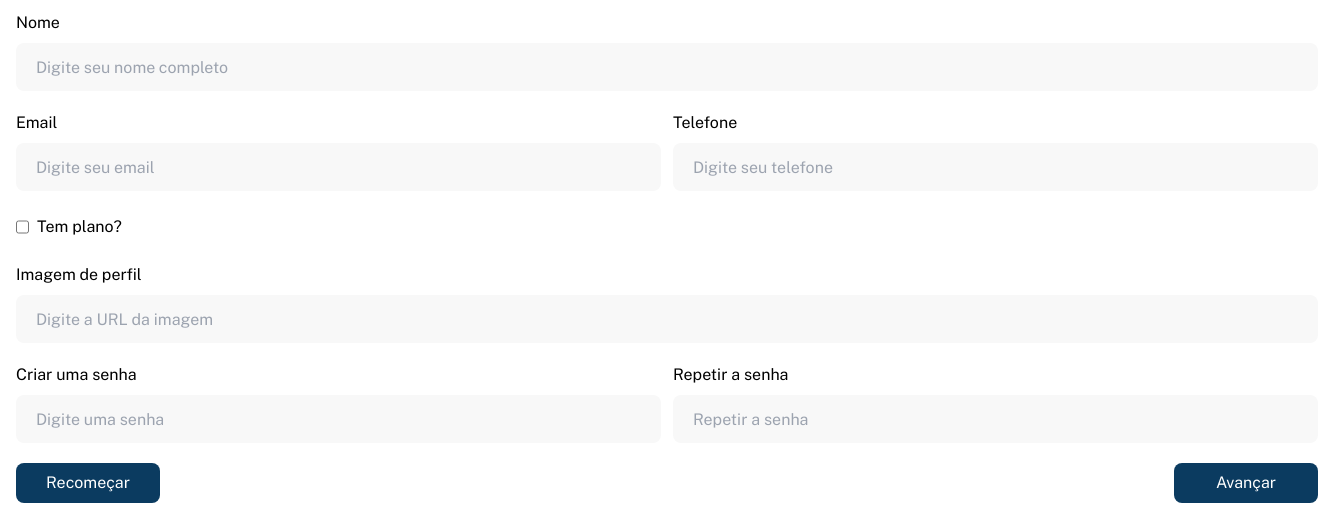
Scenario: PersonalForm Component › renders plan selection dropdown when "Tem plano?" is checked
Click the checkbox labelled "Tem plano?".
click(22, 227)  # box x1=16 y1=203 x2=29 y2=251
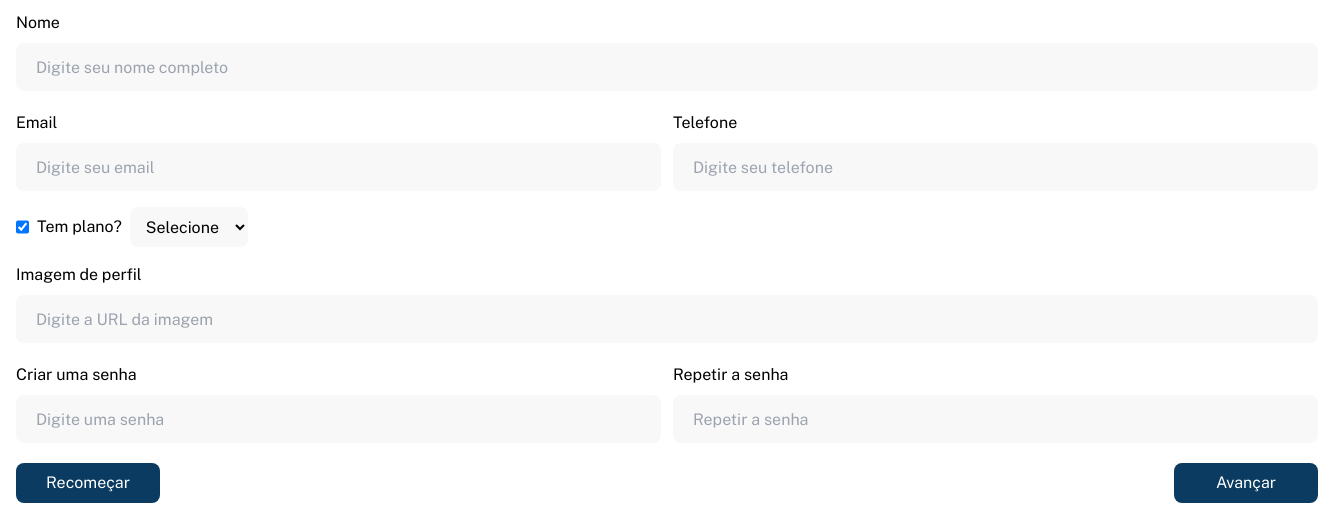
Expected: the dropdown is shown, x1=130 y1=207 x2=248 y2=247
